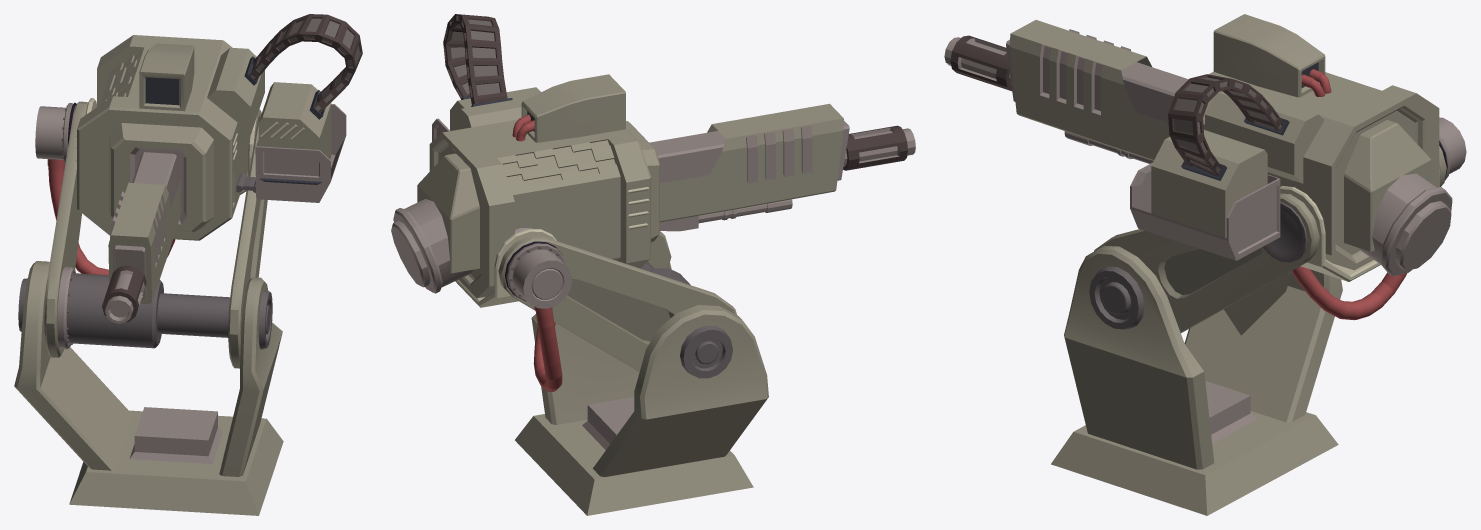
File: turret.fbx
3 views of the same model, side by side, from view 1: azimuth 30°, elevation 25°; view 2: azimuth 150°, elevation 25°; view 3: azimuth 270°, elevation 25° (orthographic). The views are drawn at different scales.
Visible parts, largest first — view 1: Cube.032; view 2: Cube.032; view 3: Cube.032.
Part boxes in pixels (x1,y1,x2,y2): Cube.032: (14,14,362,515); Cube.032: (391,14,915,515); Cube.032: (944,14,1466,515).
Bounding box in the file's own units: 122 × 133 × 136.
